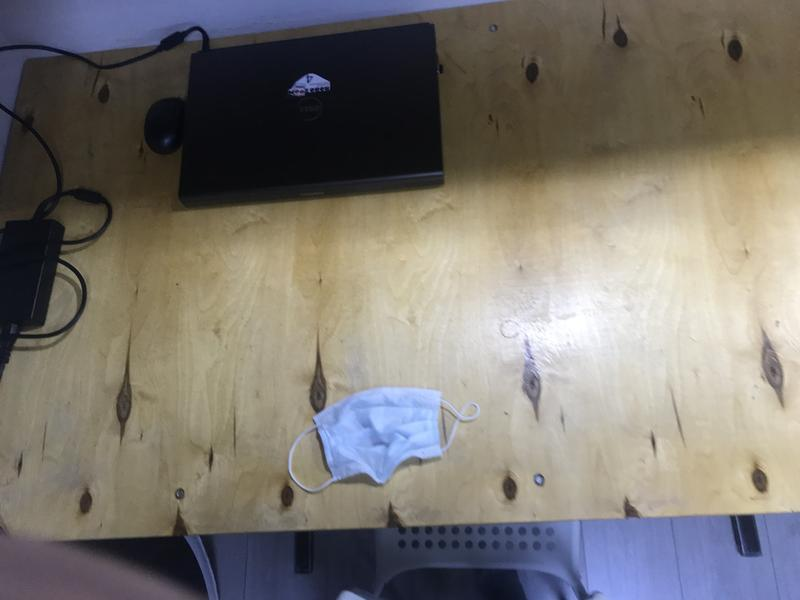medical_mask: (289, 389, 479, 494)
